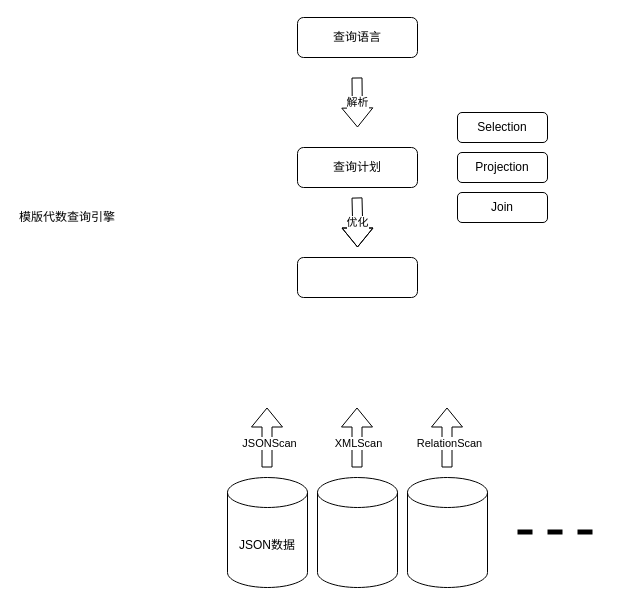
The diagram is 618 pixels wide and 605 high, and some of its shapes have lost their labels. The shapes that lost their labels are listed below. From the top down, each one's box as (x1, y1, x2, y2) in pixels, then its label:
(296, 256, 418, 298): 物理查询计划
(316, 476, 398, 588): XML数据
(406, 476, 488, 588): 关系型数据
